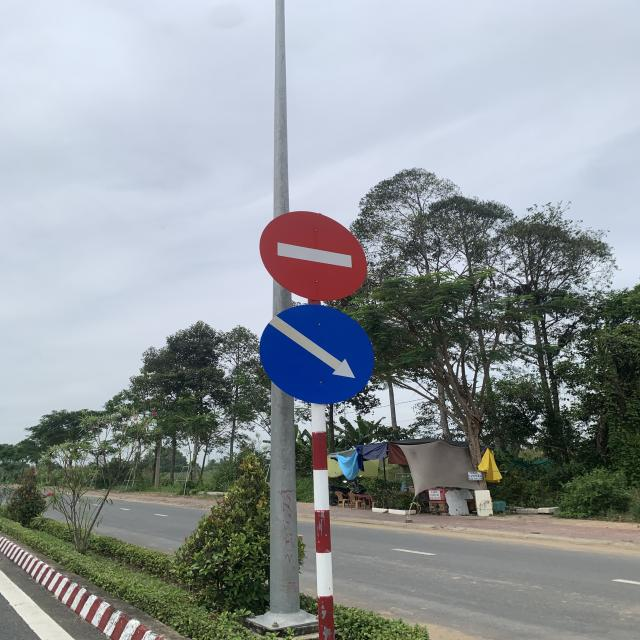Cam_Di_Nguoc_Chieu: (259, 211, 367, 301)
Chi_Huong_Di_Phai: (261, 305, 373, 405)
